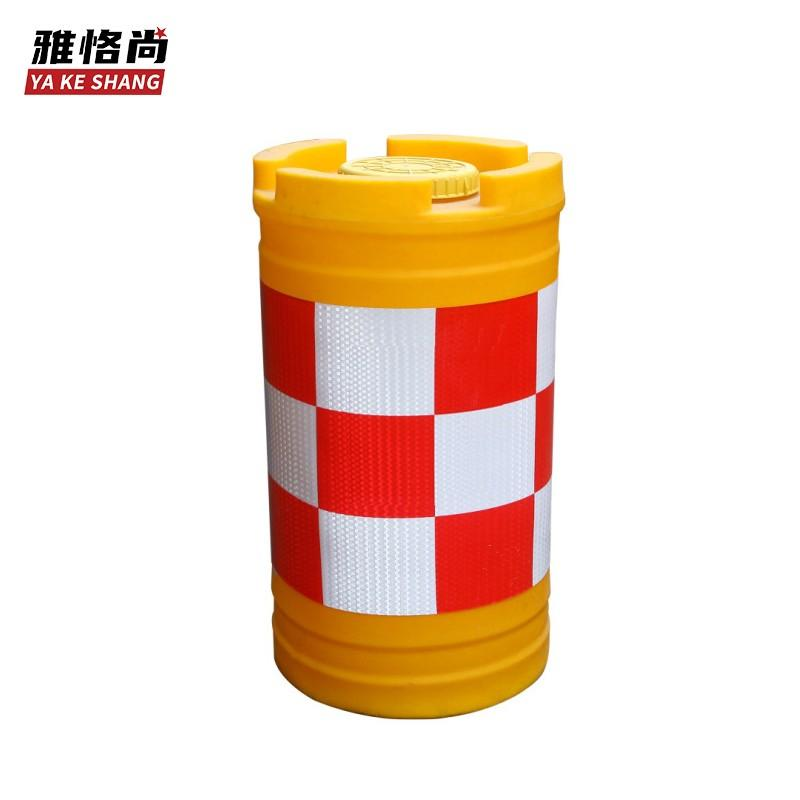sign: (230, 116, 559, 736)
